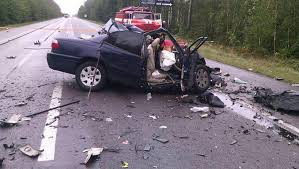car: (51, 20, 220, 105)
